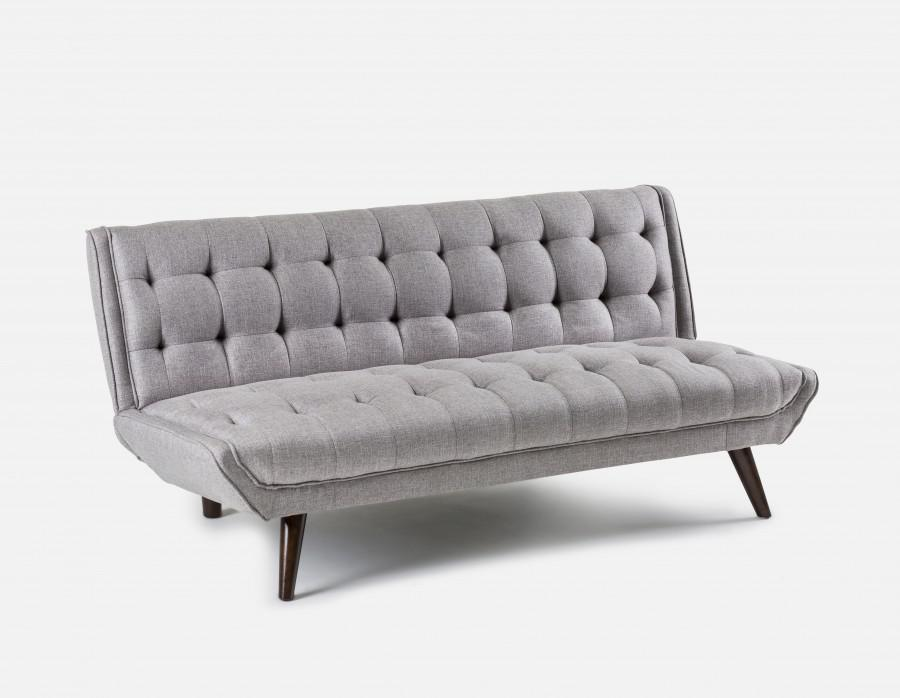bed: (78, 168, 842, 627)
